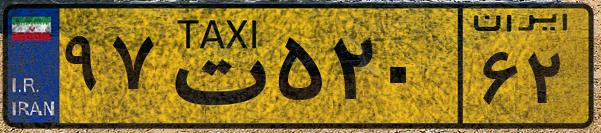0: (385, 28, 445, 110)
2: (330, 28, 385, 110), (525, 38, 570, 115)
5: (270, 28, 330, 110)
6: (475, 38, 525, 113)
7: (110, 28, 158, 98)
9: (57, 26, 110, 100)
ت: (158, 12, 270, 120)
